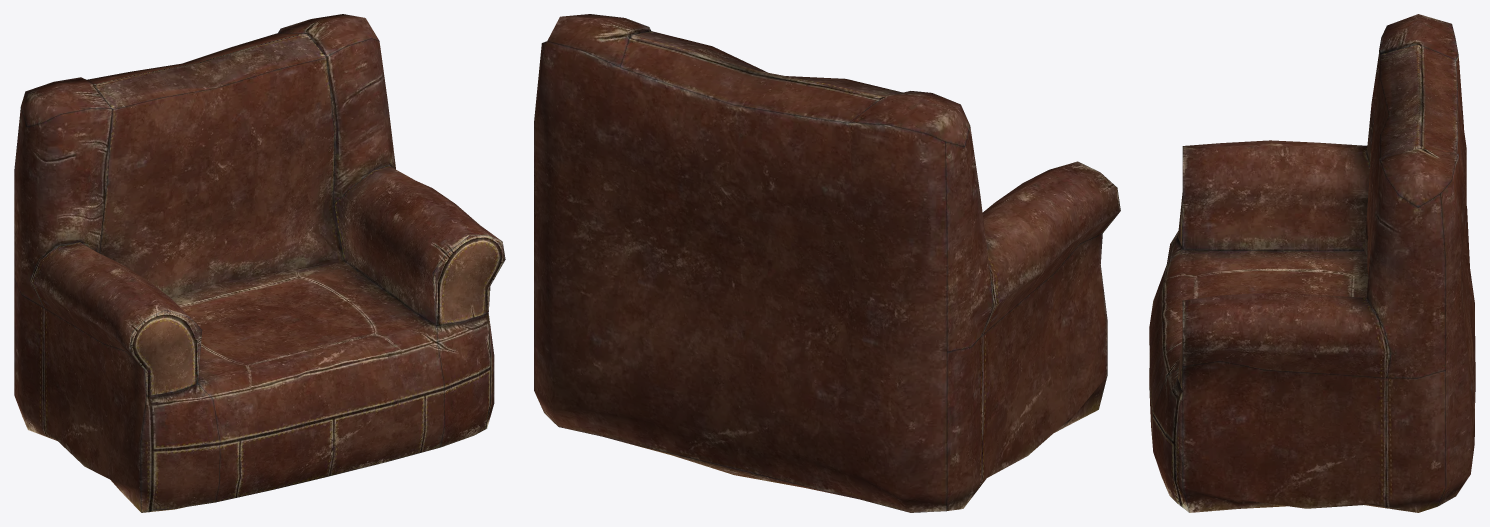
Rendered from Couch2.glb.
3 renders of one model, left to right at view 1: azimuth 30°, elevation 25°; view 2: azimuth 150°, elevation 25°; view 3: azimuth 270°, elevation 25°, orthographic. The views are drawn at different scales.
Parts seen in each view (by area): view 1: couch_couch_MAT_0; view 2: couch_couch_MAT_0; view 3: couch_couch_MAT_0.
Boxes of the visible parts, <box> form: couch_couch_MAT_0: <box>14,14,505,512</box>; couch_couch_MAT_0: <box>534,14,1120,512</box>; couch_couch_MAT_0: <box>1149,14,1475,512</box>.
Size of the model in its own units: 4.12 by 3.5 by 3.06.
1 material, 1 textured.
